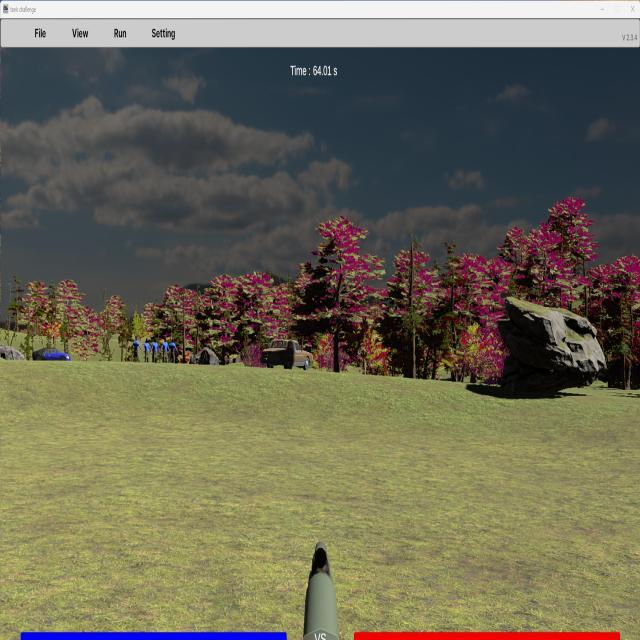car: (261, 339, 312, 370), (32, 347, 71, 366)
